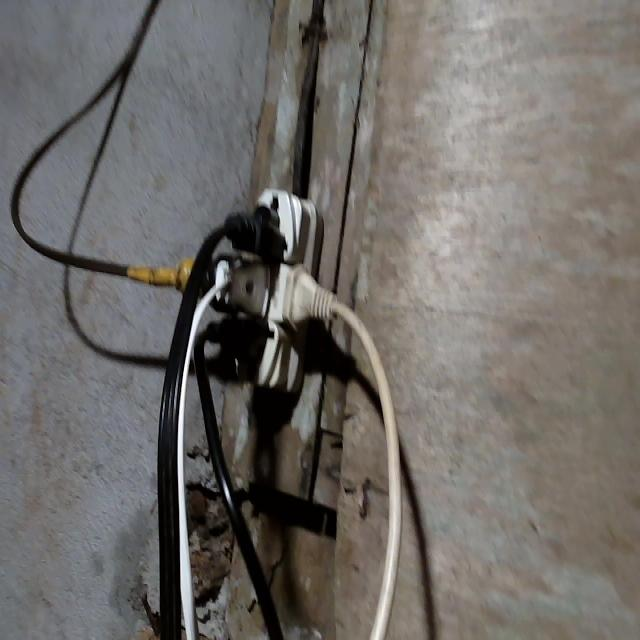-: (182, 184, 320, 396)
